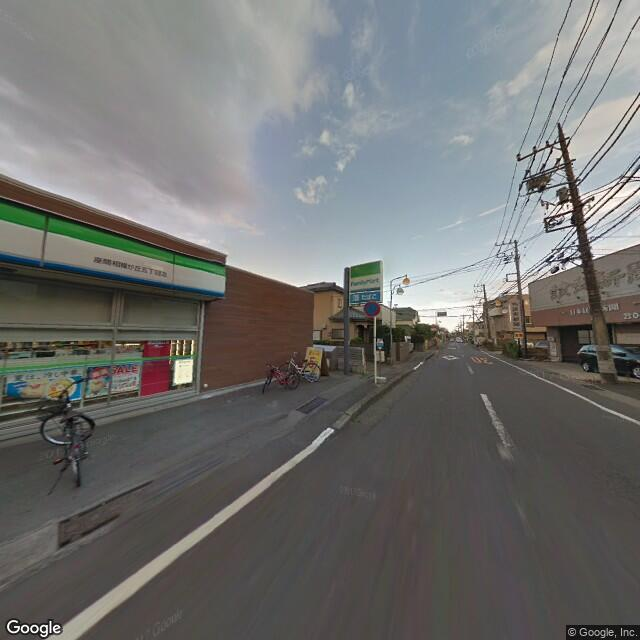family_mart: (1, 200, 226, 298), (349, 258, 383, 302)
